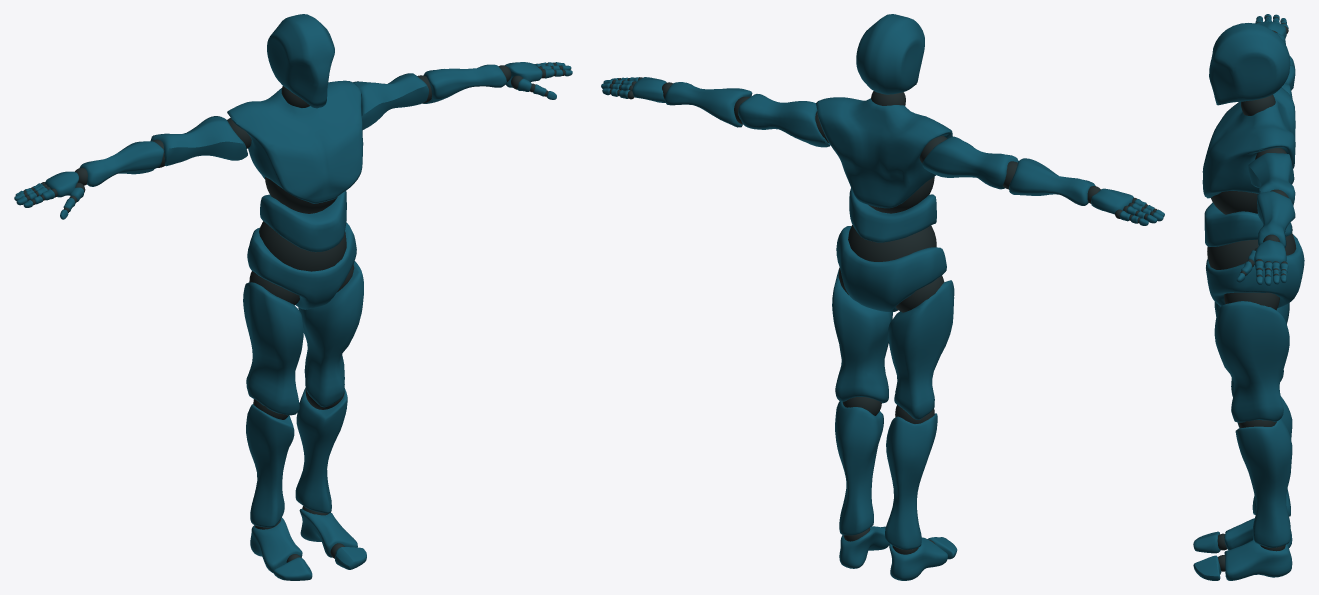
File: Y_Bot.FBX
The picture shows the model from 3 angles, left to right: view 1: azimuth 30°, elevation 25°; view 2: azimuth 150°, elevation 25°; view 3: azimuth 270°, elevation 25°; orthographic projection.
Visible parts, largest first — view 1: Torso_Upper, Leg_R, Leg_L, Torso_Lower, Head, Shin_R, Shin_L, Crotch, Bicep_R, Foot_R, Bicep_L, Foot_L (+4 smaller); view 2: Torso_Upper, Leg_R, Leg_L, Shin_L, Shin_R, Crotch, Torso_Lower, Head, Bicep_R, Bicep_L, Forearm_R, Forearm_L (+4 smaller); view 3: Leg_L, Torso_Upper, Head, Shin_L, Torso_Lower, Foot_L, Crotch, Bicep_L, Hand_L, Forearm_L, Foot_R, Neck (+4 smaller).
Boxes of the visible parts, x1,y1,x2,y2 form: Torso_Upper: [227, 80, 363, 213]; Leg_R: [243, 271, 303, 415]; Leg_L: [298, 261, 363, 407]; Torso_Lower: [259, 191, 346, 271]; Head: [267, 14, 334, 108]; Shin_R: [246, 399, 294, 527]; Shin_L: [295, 387, 347, 513]; Crotch: [247, 222, 356, 309]; Bicep_R: [150, 116, 251, 166]; Foot_R: [250, 517, 312, 580]; Bicep_L: [353, 73, 428, 129]; Foot_L: [299, 506, 366, 569]; Torso_Upper: [816, 97, 952, 213]; Leg_R: [888, 276, 954, 419]; Leg_L: [832, 267, 892, 403]; Shin_L: [835, 397, 883, 535]; Shin_R: [885, 405, 937, 549]; Crotch: [836, 226, 946, 312]; Torso_Lower: [848, 188, 936, 261]; Head: [856, 14, 924, 94]; Bicep_R: [919, 135, 1018, 189]; Bicep_L: [738, 94, 830, 147]; Forearm_R: [1003, 158, 1095, 205]; Forearm_L: [665, 82, 752, 127]; Leg_L: [1214, 292, 1289, 422]; Torso_Upper: [1202, 87, 1295, 214]; Head: [1209, 23, 1290, 105]; Shin_L: [1235, 418, 1292, 547]; Torso_Lower: [1204, 202, 1296, 269]; Foot_L: [1193, 540, 1292, 580]; Crotch: [1206, 234, 1304, 308]; Bicep_L: [1248, 147, 1295, 205]; Hand_L: [1236, 234, 1288, 285]; Forearm_L: [1257, 189, 1295, 247]; Foot_R: [1193, 518, 1292, 553]; Neck: [1241, 94, 1275, 115].
Size of the model in its own units: 194 by 180 by 33.88.
